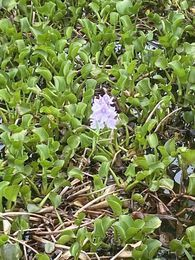water_hyacinth: (0, 0, 195, 259)
